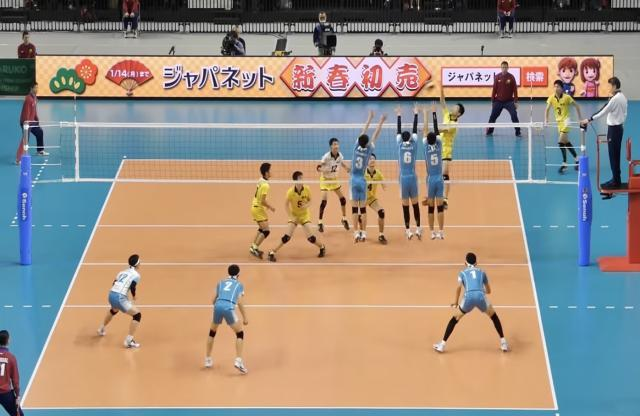block: (346, 108, 388, 242), (392, 102, 424, 244), (422, 100, 449, 244)
